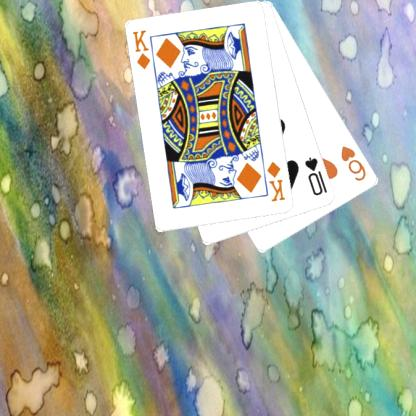10S: (302, 154, 329, 198)
6H: (338, 143, 368, 183)
KD: (264, 158, 287, 204), (130, 28, 152, 71)
